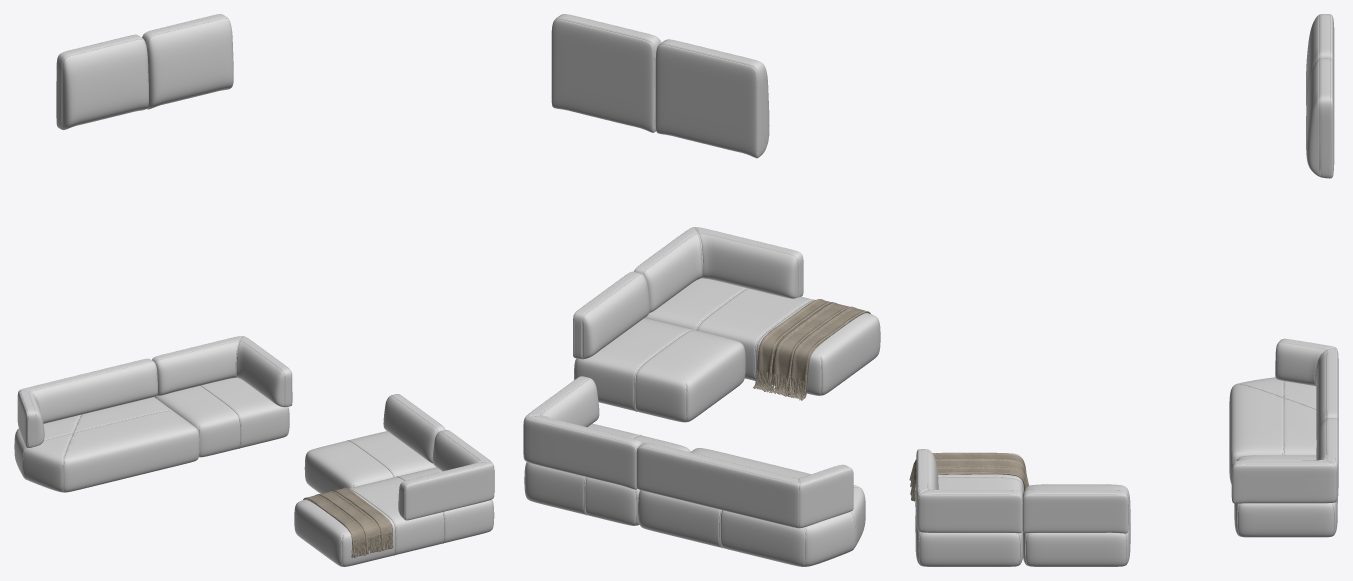
3 renders of one model, left to right at view 1: azimuth 30°, elevation 25°; view 2: azimuth 150°, elevation 25°; view 3: azimuth 270°, elevation 25°, orthographic. The views are drawn at different scales.
Visible parts, largest first — view 1: Item_Couch Piece, Item_Couch Piece.001; view 2: Item_Couch Piece, Item_Couch Piece.001; view 3: Item_Couch Piece, Item_Couch Piece.001.
Boxes of the visible parts, bbox=[...] form: Item_Couch Piece: bbox=[14, 336, 494, 566]; Item_Couch Piece.001: bbox=[56, 14, 233, 129]; Item_Couch Piece: bbox=[523, 227, 880, 566]; Item_Couch Piece.001: bbox=[551, 14, 769, 158]; Item_Couch Piece: bbox=[909, 338, 1338, 566]; Item_Couch Piece.001: bbox=[1306, 14, 1334, 178].
Bounding box in the file's own units: 3.34 × 4.18 × 3.8.
2 materials, 1 textured.
